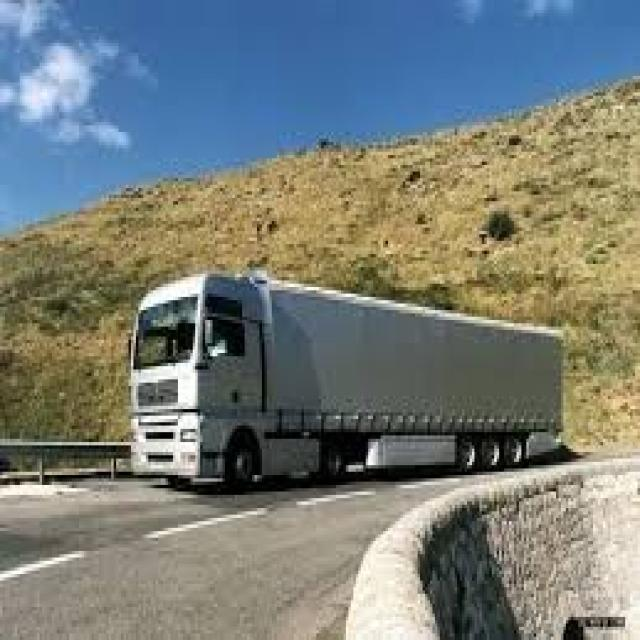covered: (123, 264, 566, 488)
